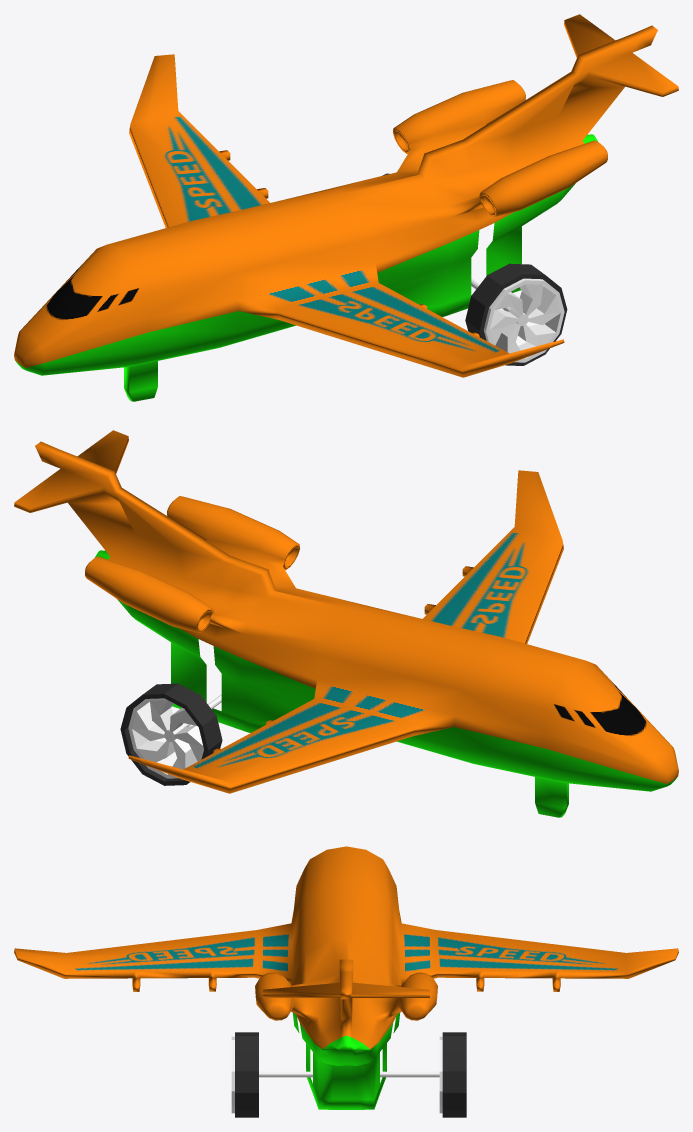
File: boeing.glb
The picture shows the model from 3 angles, top to bottom: view 1: azimuth 30°, elevation 25°; view 2: azimuth 150°, elevation 25°; view 3: azimuth 270°, elevation 25°; orthographic projection. The views are drawn at different scales.
Parts seen in each view (by area): view 1: AVIAO, roda, pneu; view 2: AVIAO, roda, pneu; view 3: AVIAO, pneu, roda.
Part boxes in pixels (x1,y1,x2,y2): AVIAO: [14, 14, 678, 401]; roda: [471, 278, 564, 362]; pneu: [382, 173, 567, 365]; AVIAO: [14, 430, 678, 817]; roda: [128, 694, 221, 778]; pneu: [120, 683, 222, 785]; AVIAO: [14, 846, 678, 1109]; pneu: [235, 1032, 466, 1117]; roda: [231, 1036, 442, 1113].
Bounding box in the file's own units: 11.48 × 4.25 × 12.32.
3 materials, 1 textured.
